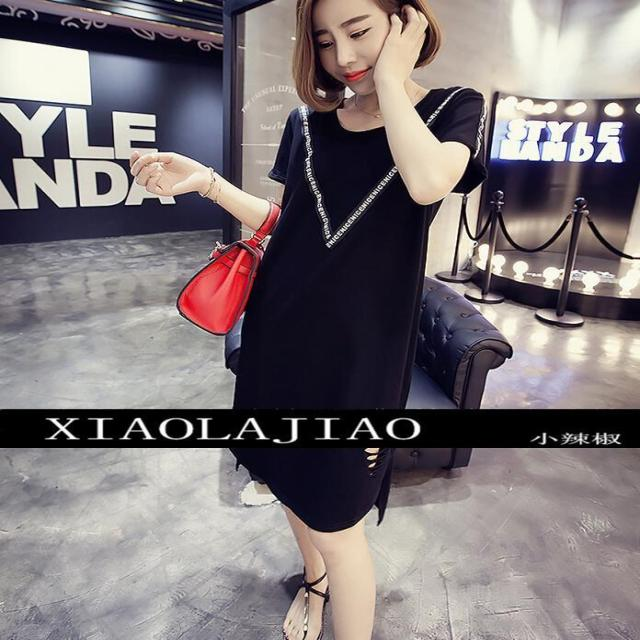short sleeve dress: (228, 89, 487, 526)
